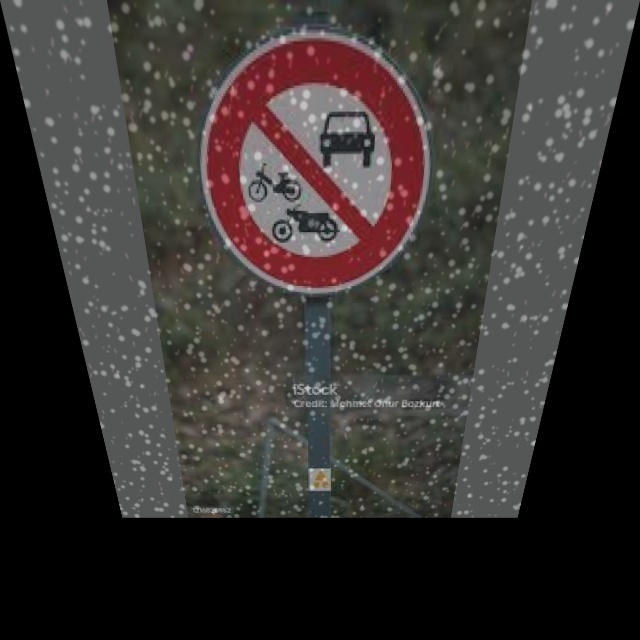All_Motor_Vehicles_Prohibited: (185, 25, 440, 292)
